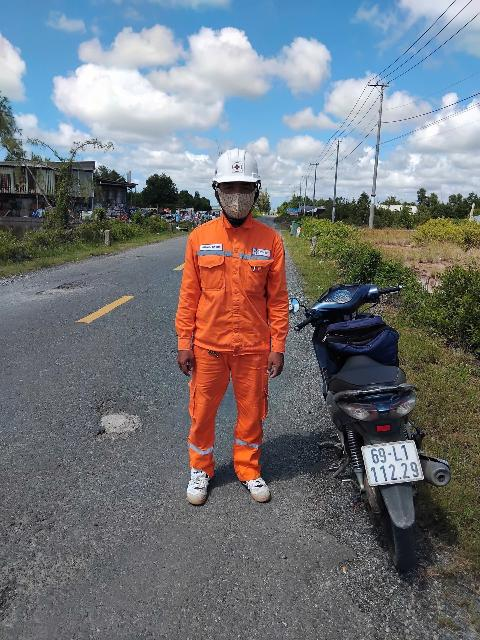helmet: (201, 145, 281, 192)
shoes: (230, 448, 281, 510), (182, 460, 223, 513)
